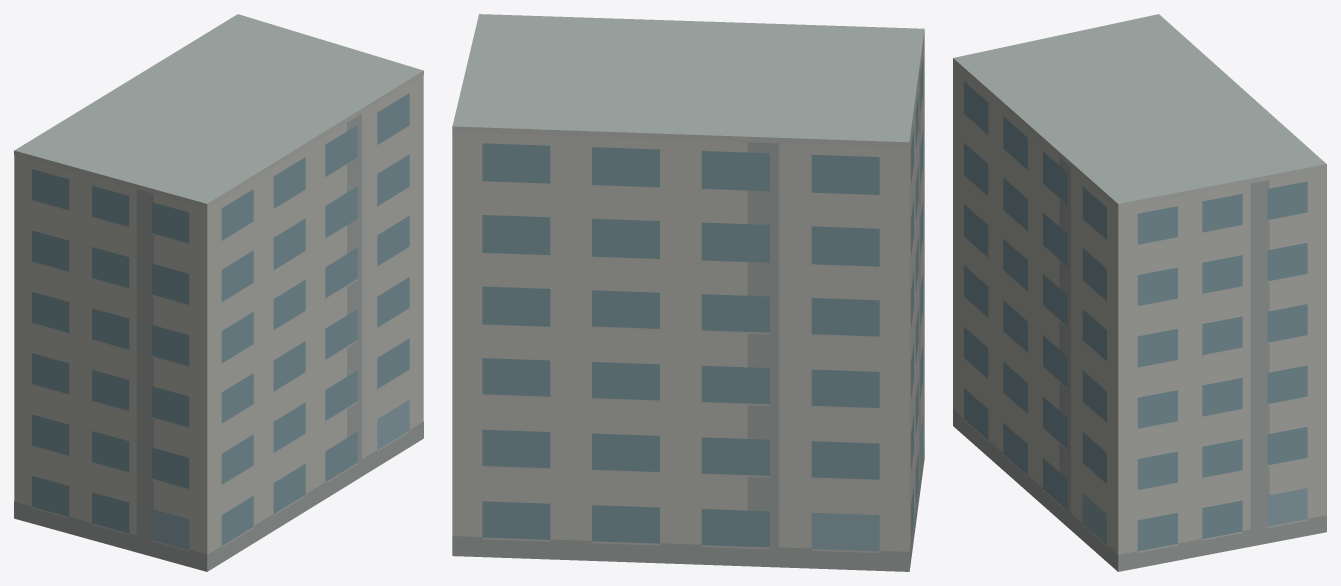
File: survey-upis-32826153.glb
The picture shows the model from 3 angles, left to right: view 1: azimuth 30°, elevation 25°; view 2: azimuth 150°, elevation 25°; view 3: azimuth 270°, elevation 25°; orthographic projection. The views are drawn at different scales.
Parts seen in each view (by area): view 1: survey-upis-32826153.tmp; view 2: survey-upis-32826153.tmp; view 3: survey-upis-32826153.tmp.
Part boxes in pixels (box(x1,y1,x2,y2)): survey-upis-32826153.tmp: box(14, 14, 423, 571); survey-upis-32826153.tmp: box(452, 14, 924, 571); survey-upis-32826153.tmp: box(953, 14, 1326, 571).
Size of the model in its own units: 20.26 by 18.3 by 16.85.
